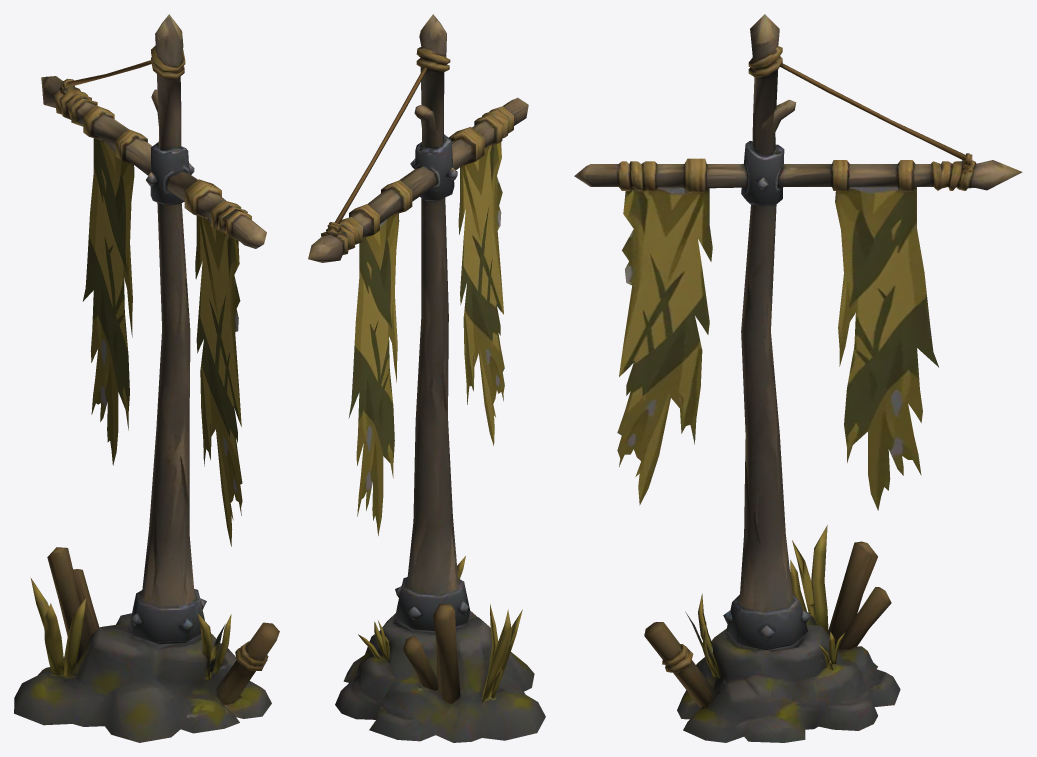
Rendered from ninebend_banner_pole.glb.
3 views of the same model, side by side, from view 1: azimuth 30°, elevation 25°; view 2: azimuth 150°, elevation 25°; view 3: azimuth 270°, elevation 25° (orthographic). The views are drawn at different scales.
Visible parts, largest first — view 1: tripo_node_325dda3d-a472-4c81-91e1-489287524386; view 2: tripo_node_325dda3d-a472-4c81-91e1-489287524386; view 3: tripo_node_325dda3d-a472-4c81-91e1-489287524386.
Boxes of the visible parts, x1,y1,x2,y2 form: tripo_node_325dda3d-a472-4c81-91e1-489287524386: (14, 14, 279, 742); tripo_node_325dda3d-a472-4c81-91e1-489287524386: (308, 14, 545, 742); tripo_node_325dda3d-a472-4c81-91e1-489287524386: (574, 14, 1022, 742).
Bounding box in the file's own units: 1.91 × 6 × 3.53.
1 material, 1 textured.
